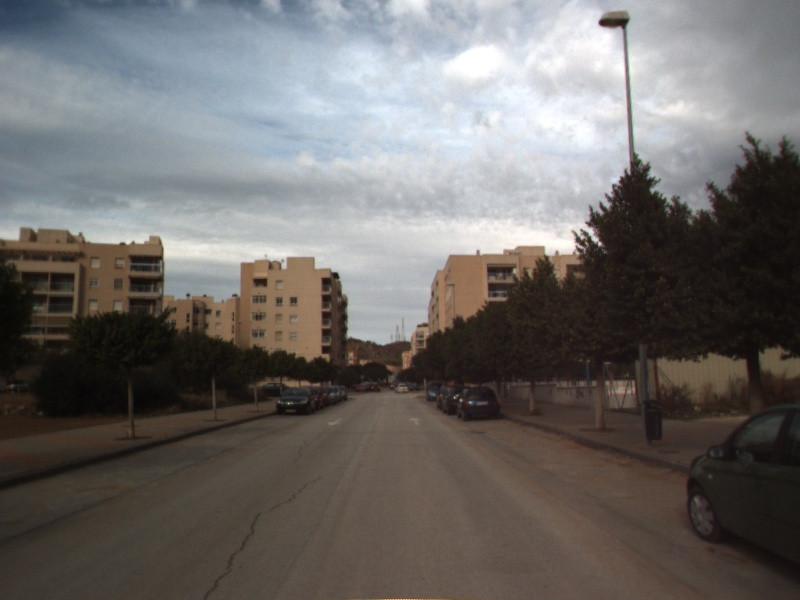STRAIGHT: (406, 415, 424, 427)
